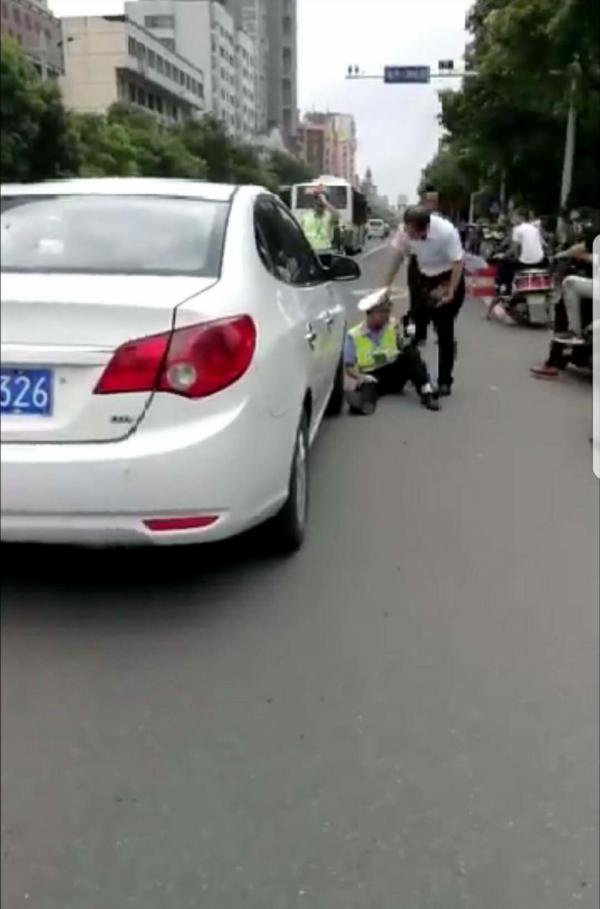fall: (339, 270, 441, 427)
